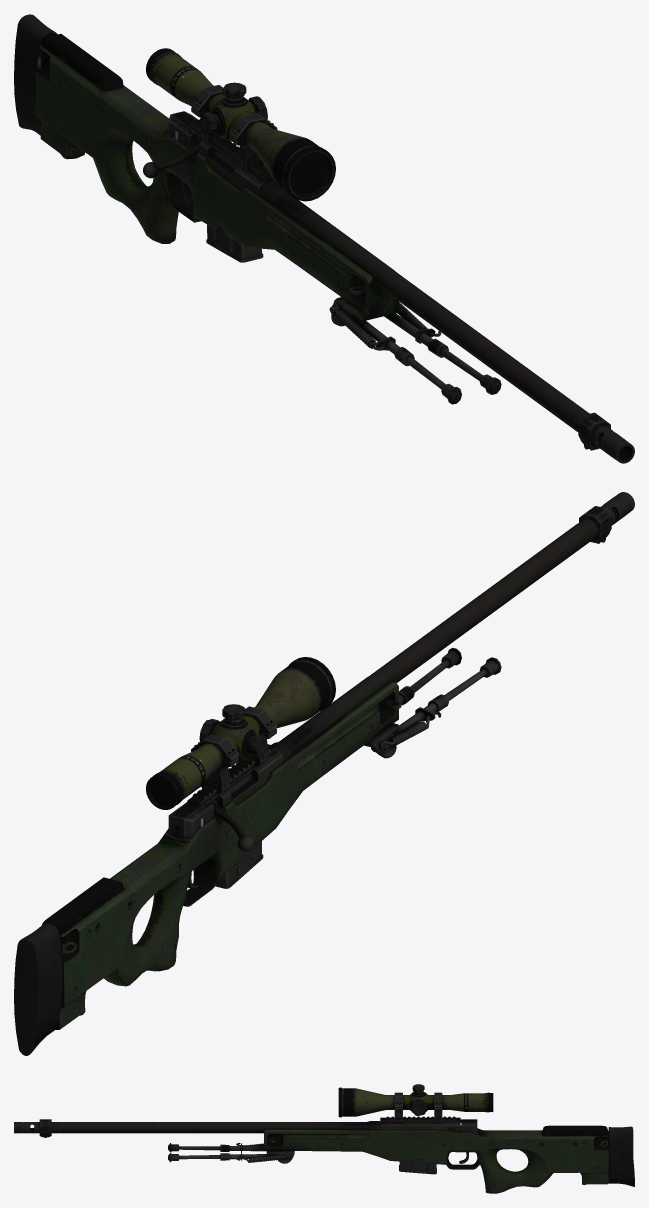
The model's file is awp.glb.
3 views of the same model, one above another, from view 1: azimuth 30°, elevation 25°; view 2: azimuth 150°, elevation 25°; view 3: azimuth 270°, elevation 25° (orthographic). The views are drawn at different scales.
Parts seen in each view (by area): view 1: Object_2, Object_3; view 2: Object_2; view 3: Object_2.
Boxes of the visible parts, bbox=[...] form: Object_2: bbox=[14, 14, 634, 463]; Object_3: bbox=[290, 151, 328, 194]; Object_2: bbox=[14, 492, 634, 1055]; Object_2: bbox=[14, 1084, 634, 1193].
Size of the model in its own units: 4.55 by 10.1 by 53.8.
2 materials, 1 textured.
